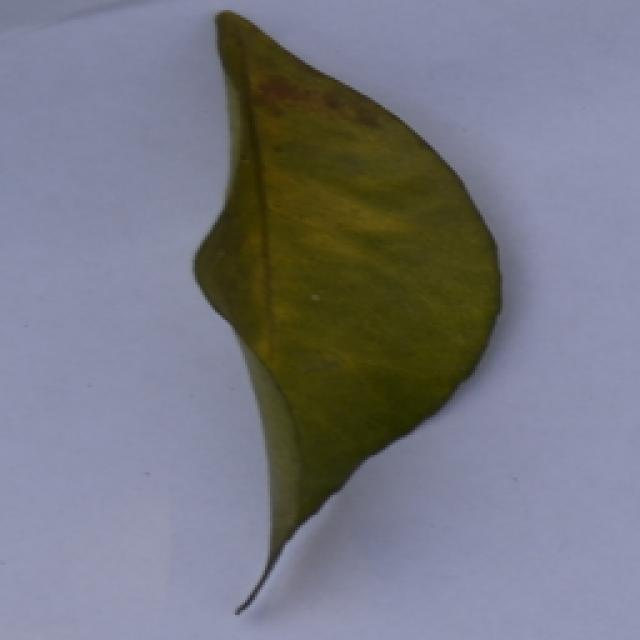greening: (160, 4, 508, 622)
